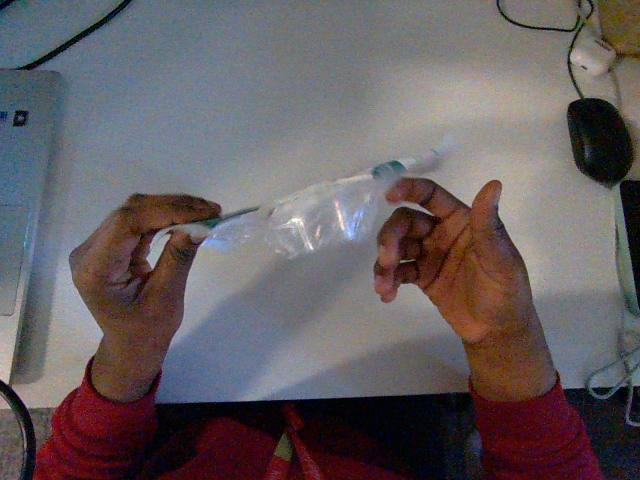gallipot: (156, 150, 442, 257), (203, 175, 391, 257)
